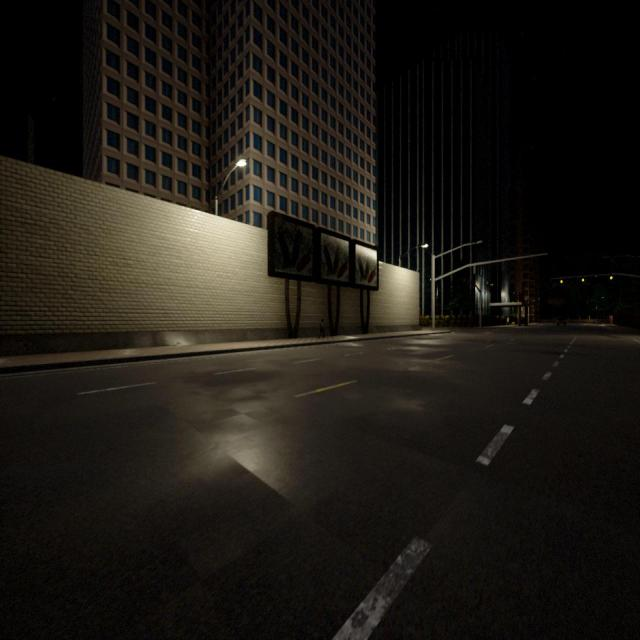Pedestrian: (318, 318, 326, 338)
Vehicle: (556, 316, 566, 326)
traffic_light: (581, 276, 585, 286), (560, 277, 563, 286), (610, 274, 613, 283)
